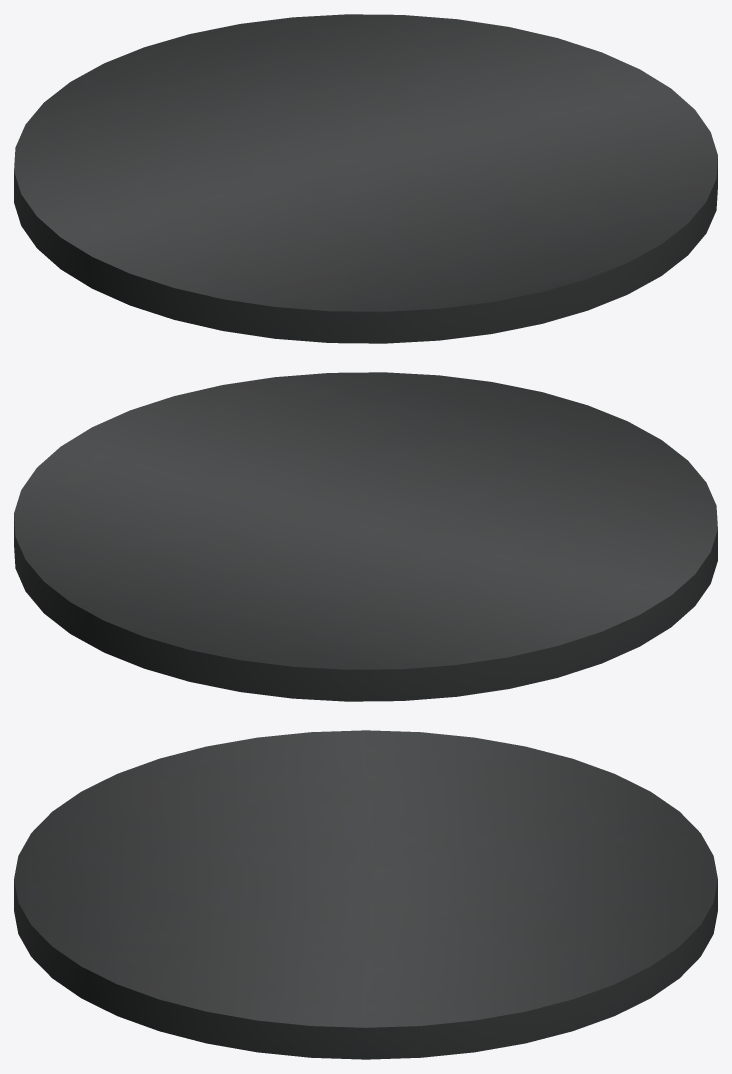
Rendered from Platform_Round_Simple.fbx.
3 views of the same model, one above another, from view 1: azimuth 30°, elevation 25°; view 2: azimuth 150°, elevation 25°; view 3: azimuth 270°, elevation 25° (orthographic).
Visible parts, largest first — view 1: Platform_Round_Simple; view 2: Platform_Round_Simple; view 3: Platform_Round_Simple.
Part boxes in pixels (bbox=[...]): Platform_Round_Simple: bbox=[14, 14, 717, 343]; Platform_Round_Simple: bbox=[14, 372, 717, 701]; Platform_Round_Simple: bbox=[14, 730, 717, 1059].
Bounding box in the file's own units: 800 × 39.85 × 800.
